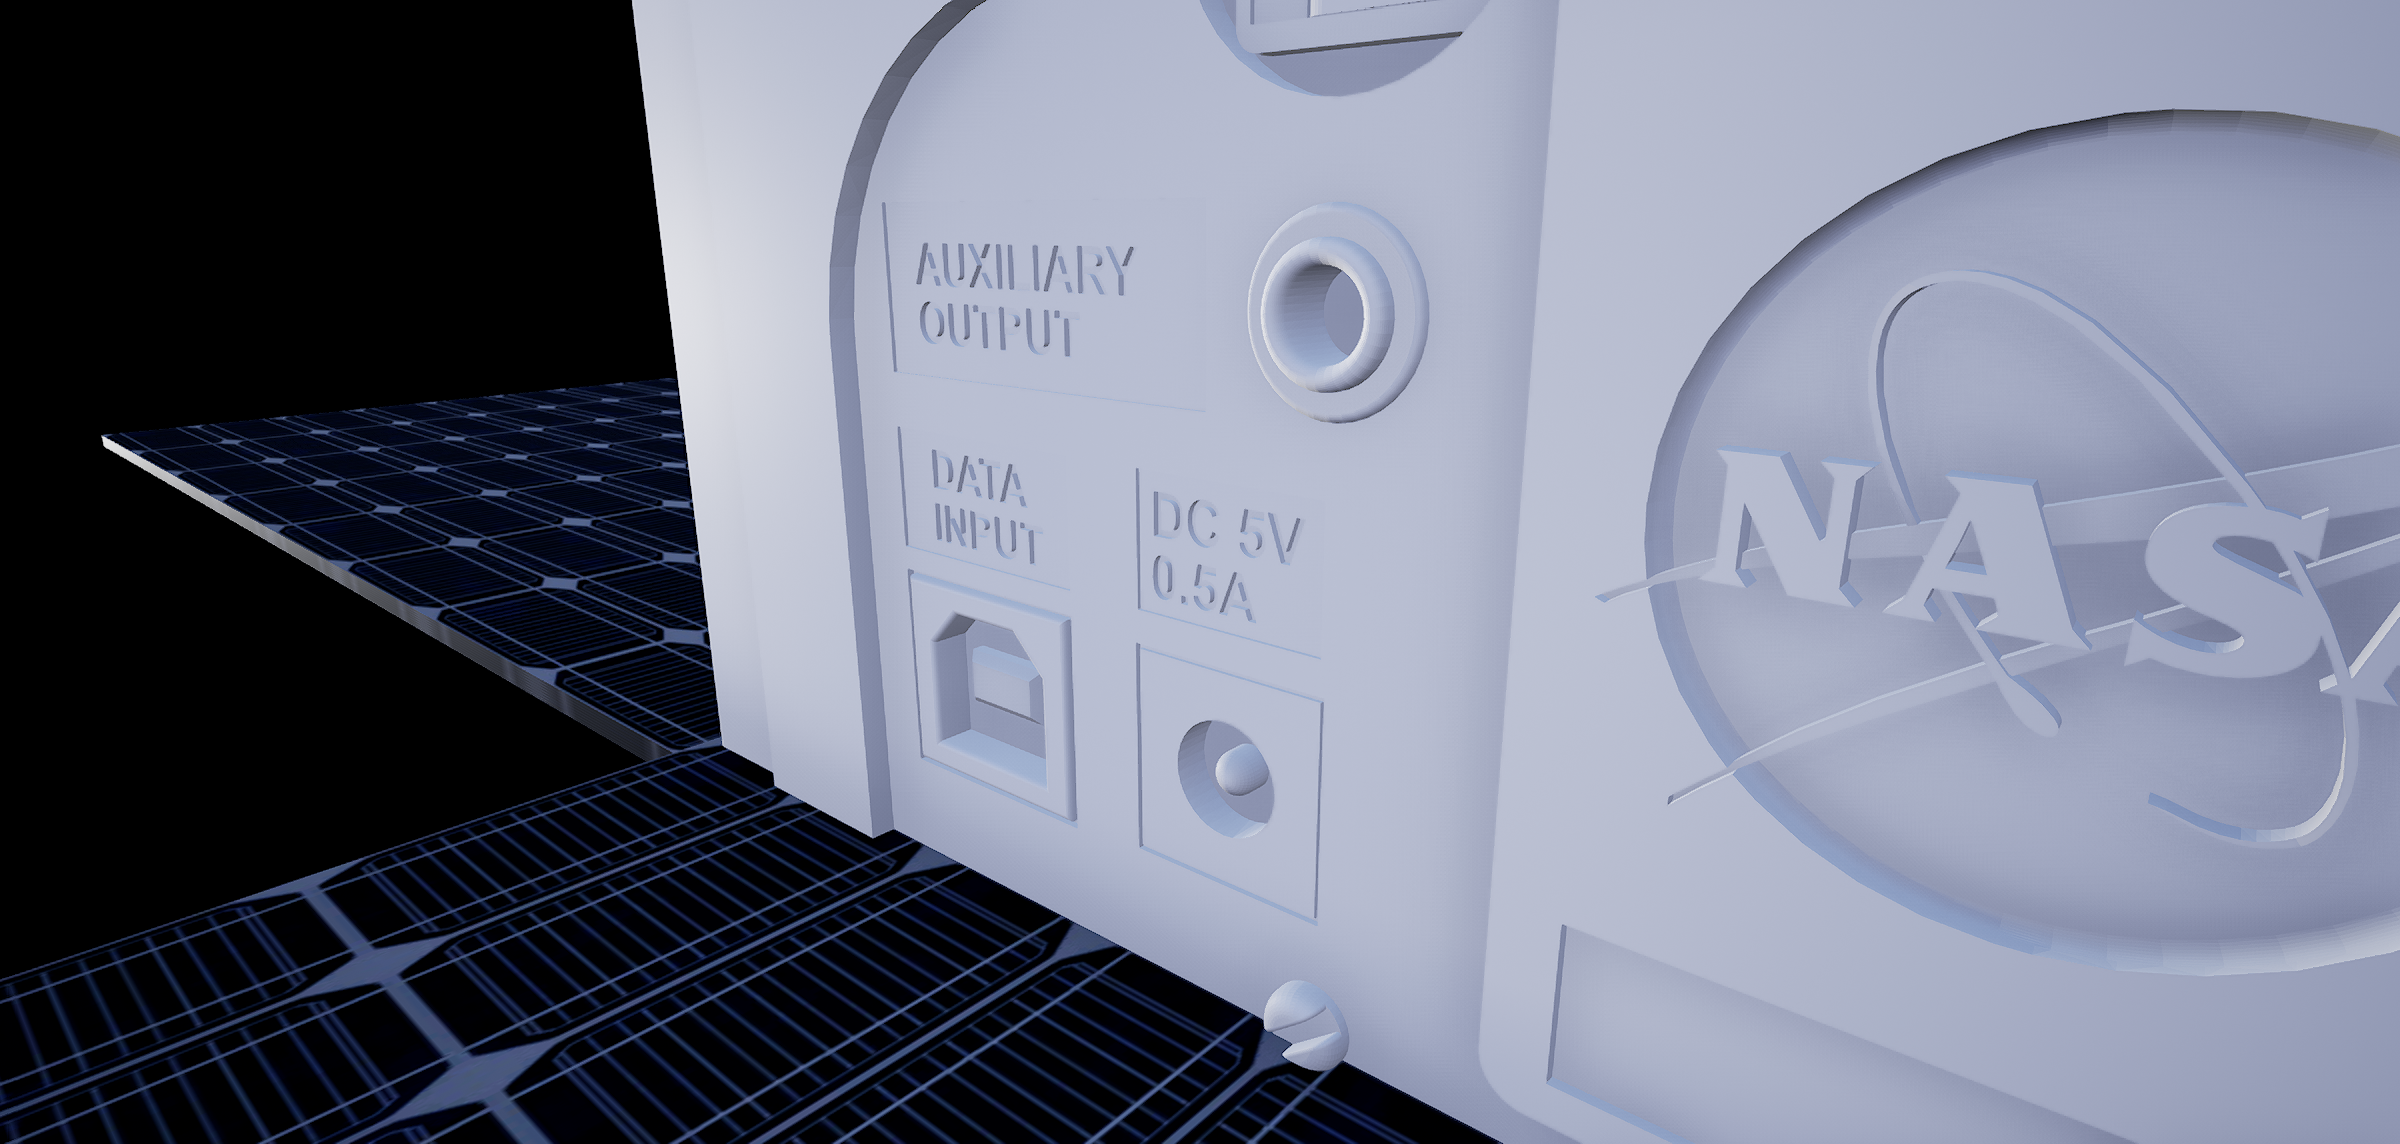aux: (1217, 187, 1439, 449)
dc: (1149, 712, 1296, 855)
usb: (921, 600, 1065, 793)
